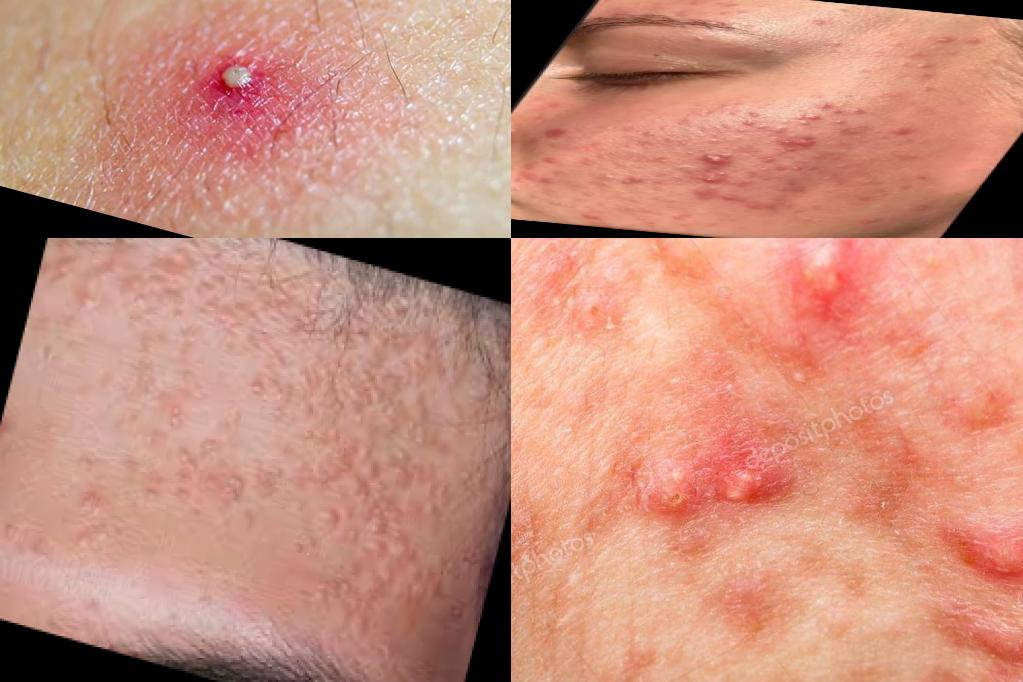blackhead: (257, 368, 434, 488), (289, 296, 464, 414)
cystic: (969, 531, 1023, 617)
flat_wart: (52, 239, 303, 372), (288, 541, 470, 676), (277, 455, 448, 568), (139, 426, 281, 524)
folliculitis: (189, 39, 280, 119)
papular: (680, 181, 739, 202), (534, 126, 583, 142), (609, 172, 656, 188), (885, 126, 928, 139), (512, 172, 549, 187), (825, 123, 866, 136), (535, 176, 571, 188), (779, 163, 817, 174), (535, 155, 570, 166), (575, 212, 609, 223), (715, 193, 747, 203), (756, 155, 783, 164)
purulent: (918, 31, 973, 48), (781, 110, 827, 129), (685, 172, 729, 187), (706, 168, 741, 179), (733, 118, 765, 129), (739, 110, 771, 120), (811, 101, 840, 110), (845, 107, 869, 116), (823, 108, 847, 117), (828, 119, 853, 127)
sebo-crystan-conglo: (615, 409, 871, 581), (757, 239, 938, 353), (772, 133, 840, 153), (686, 151, 748, 168)
whitehead: (885, 49, 953, 73), (586, 168, 633, 192), (705, 1, 761, 20), (667, 31, 718, 49), (802, 13, 846, 30), (696, 135, 735, 148), (758, 125, 796, 138), (542, 200, 580, 210), (654, 134, 687, 145), (665, 211, 694, 221), (674, 137, 700, 148), (910, 203, 937, 213), (522, 192, 549, 202), (658, 198, 681, 206), (578, 191, 601, 199)
